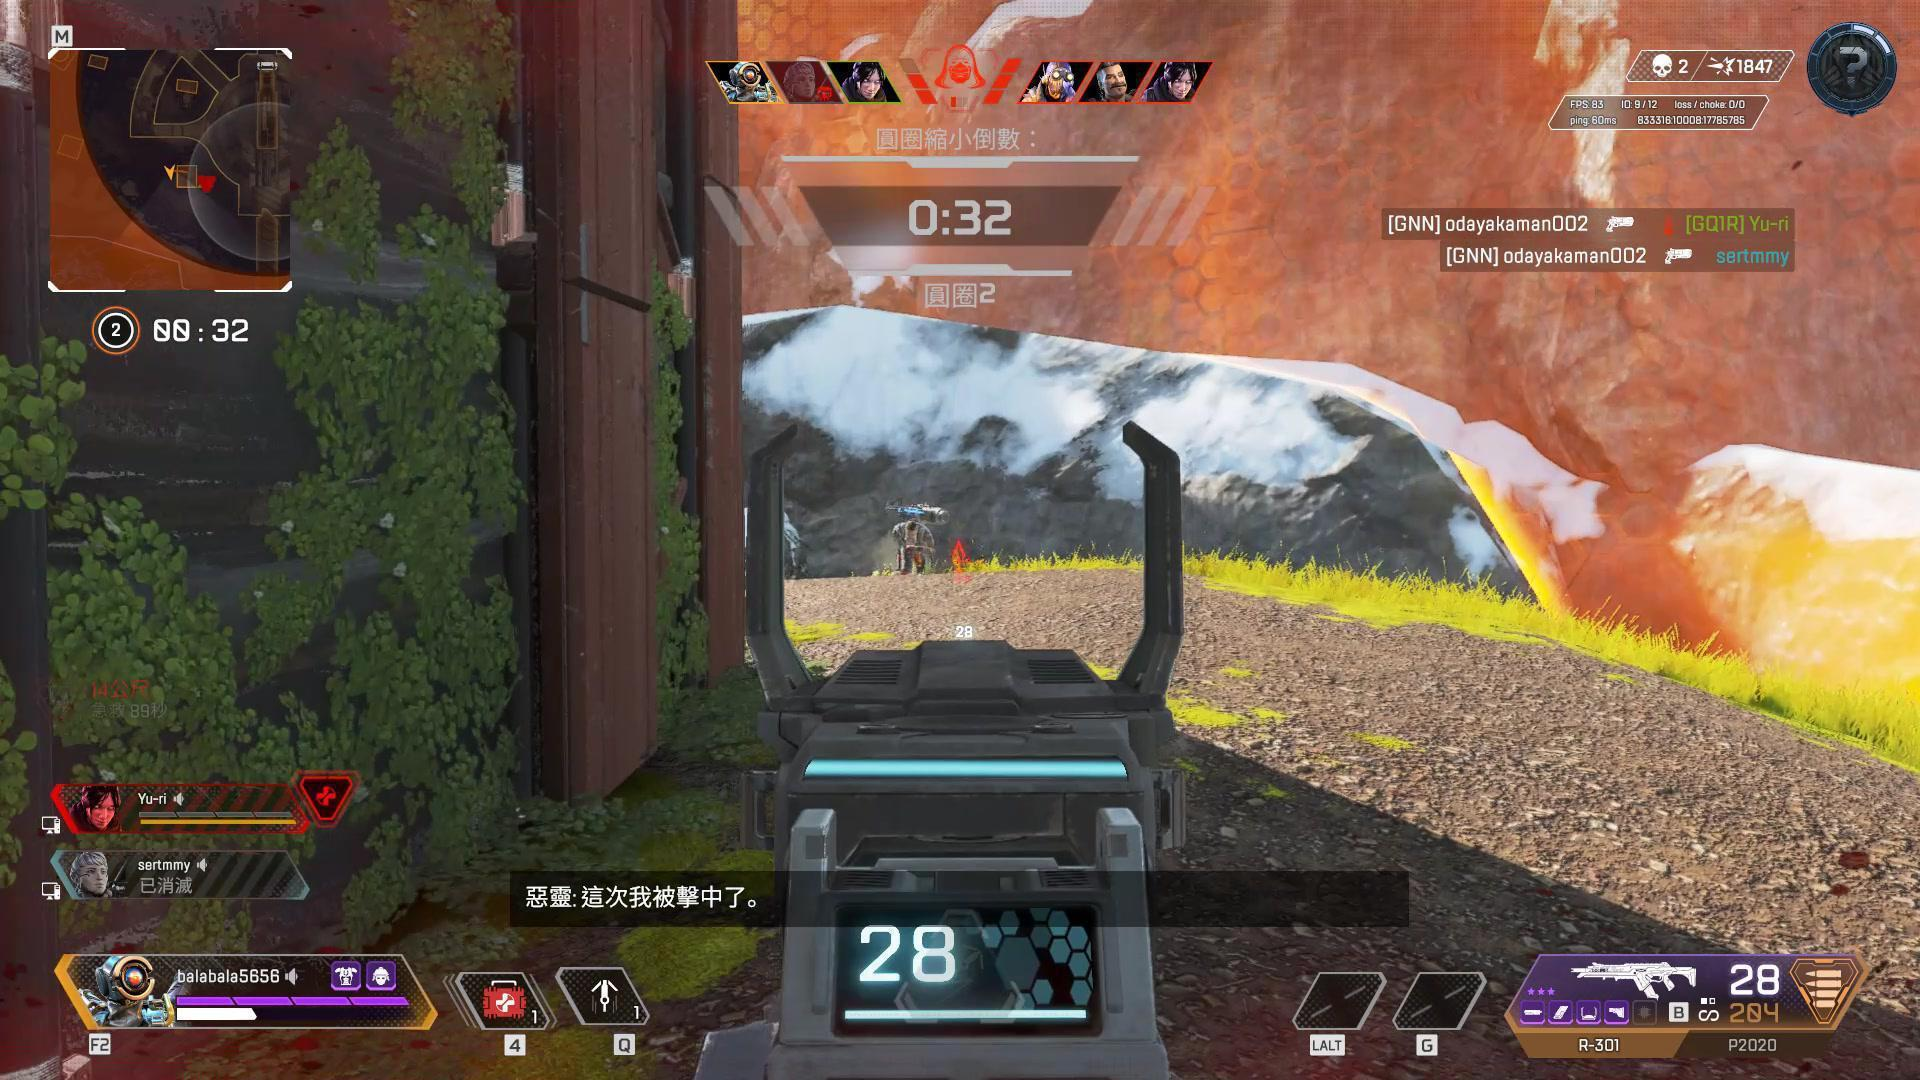avatar: (888, 517, 936, 574)
